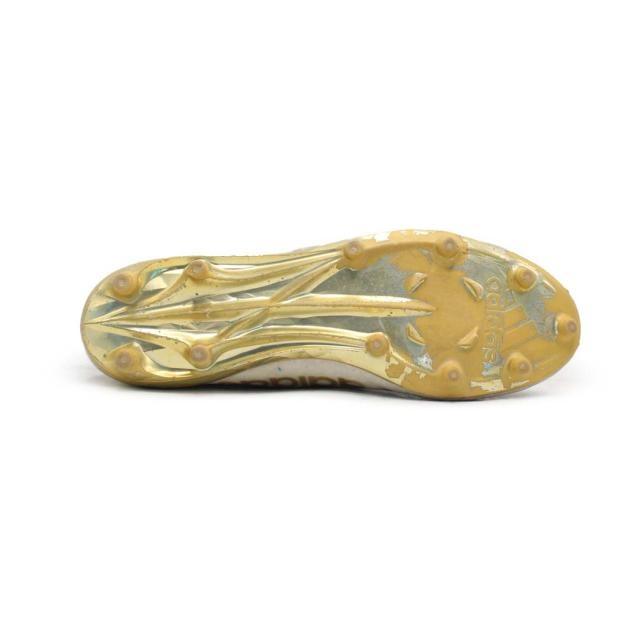outersole: (83, 231, 582, 398)
